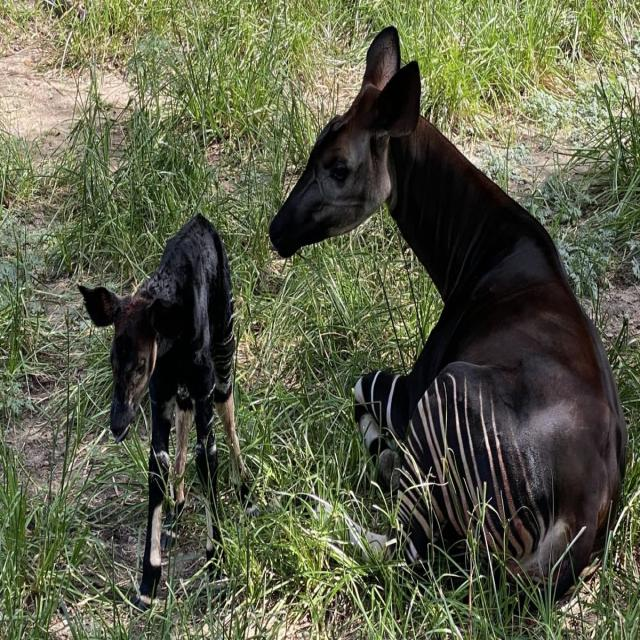Okapi: (268, 21, 628, 601), (62, 203, 262, 597)
